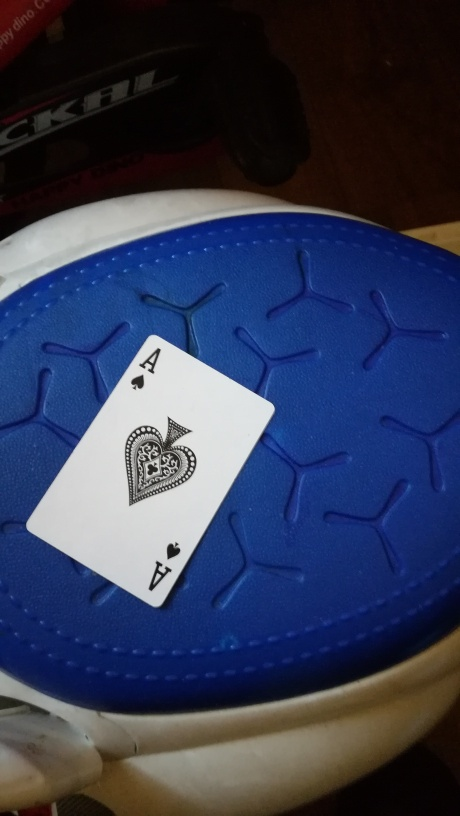ht a: (19, 328, 275, 611)
